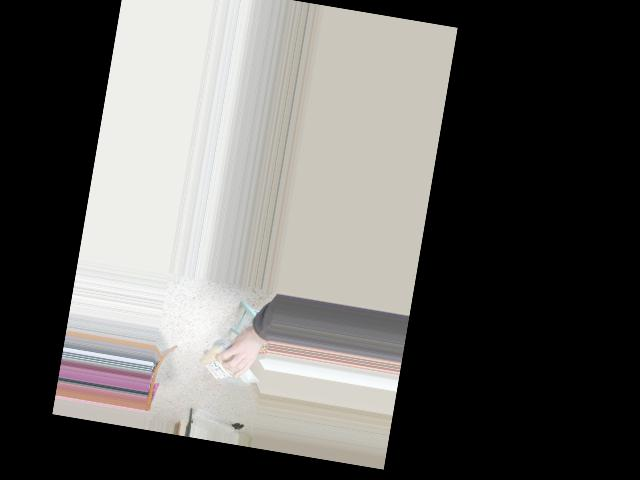cheese: (189, 346, 262, 387)
